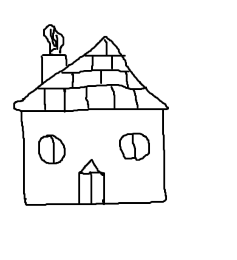closed_window: (108, 127, 153, 167), (39, 128, 66, 167)
door: (72, 160, 113, 211)
roof: (10, 30, 176, 117)
smoking_chimney: (34, 8, 73, 84)
wall: (10, 104, 171, 209)
